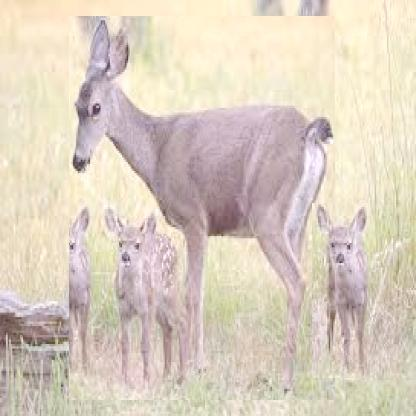Deer: (70, 16, 336, 400), (215, 203, 305, 388), (312, 203, 370, 378)
